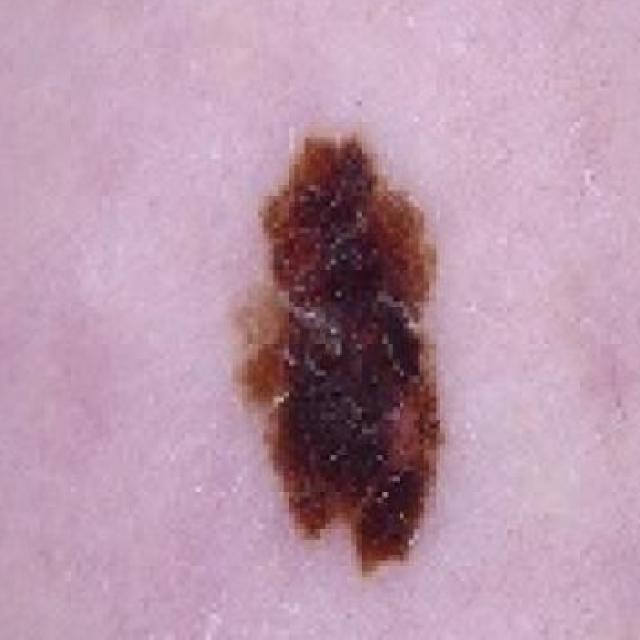MEL: (189, 118, 483, 598)
